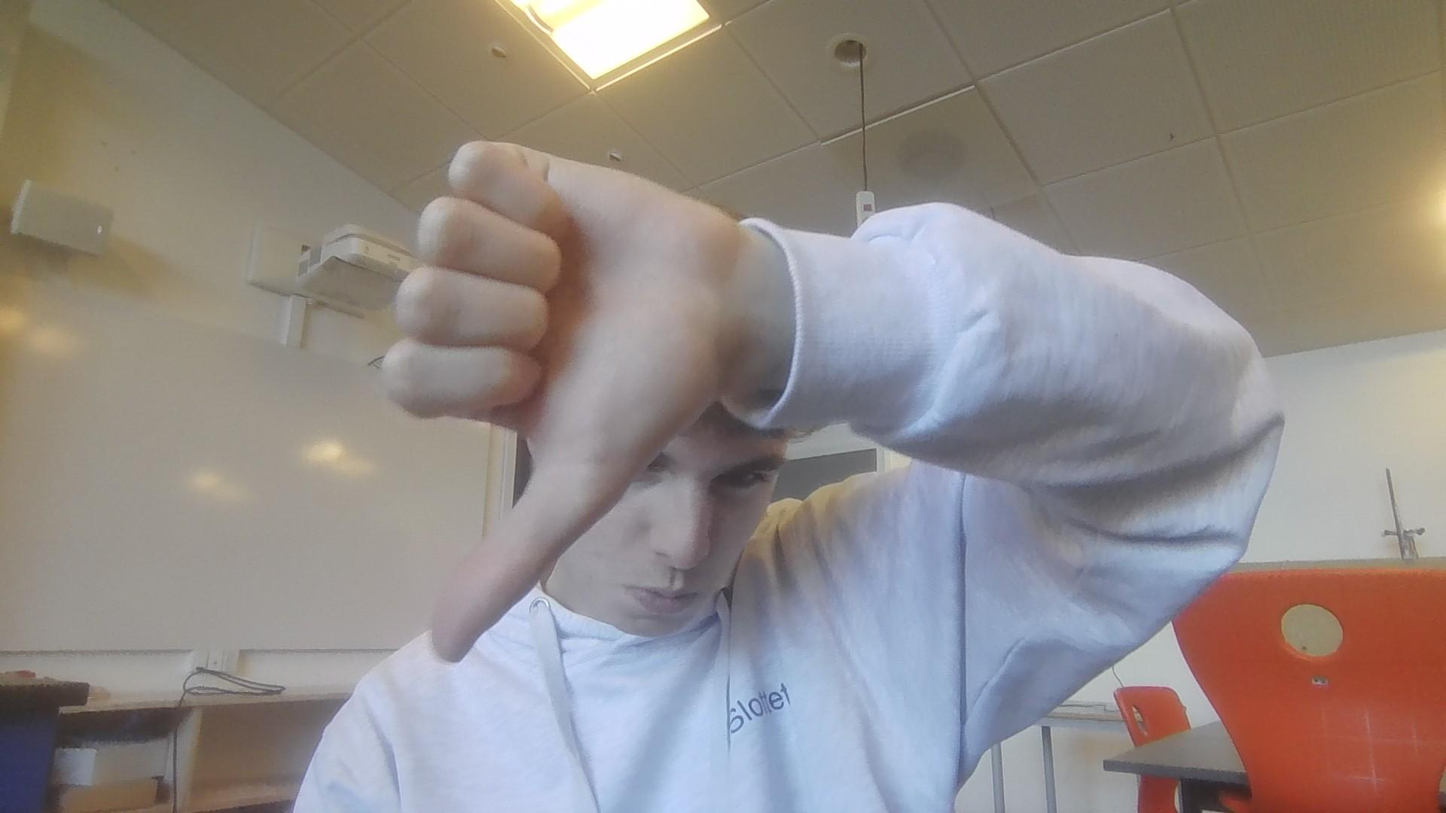thumbs down: (384, 141, 723, 675)
